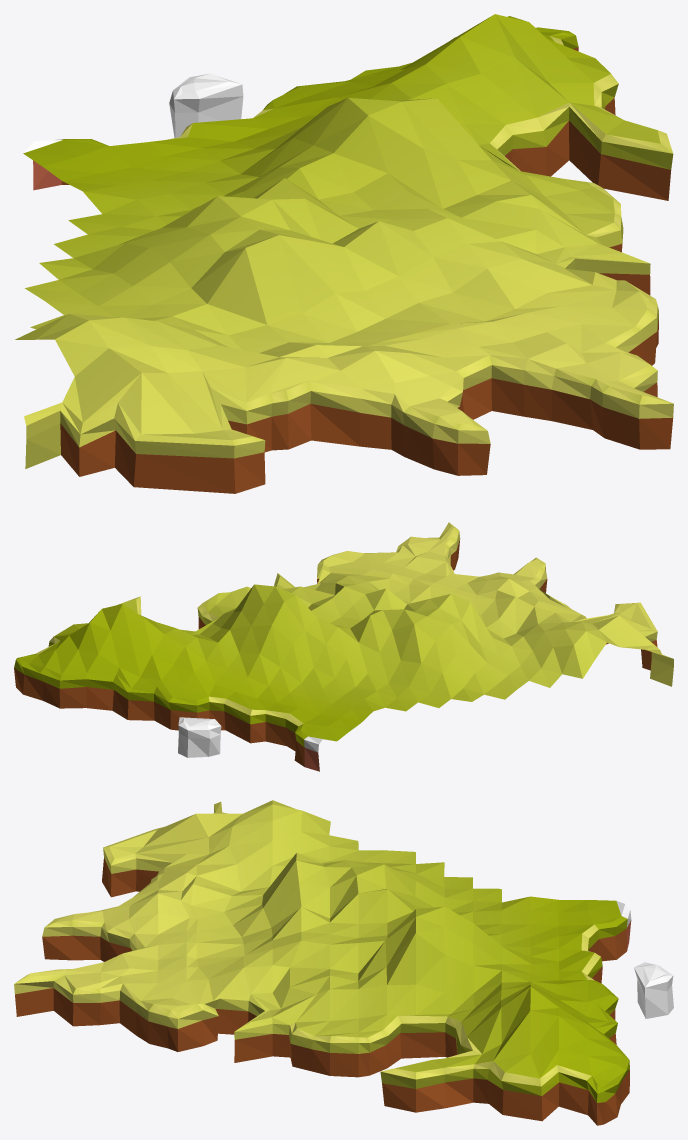
The model's file is asia.glb.
3 views of the same model, one above another, from view 1: azimuth 30°, elevation 25°; view 2: azimuth 150°, elevation 25°; view 3: azimuth 270°, elevation 25° (orthographic). The views are drawn at different scales.
Visible parts, largest first — view 1: Ground_2_World ap_0; view 2: Ground_2_World ap_0; view 3: Ground_2_World ap_0.
Part boxes in pixels (x1,y1,x2,y2): Ground_2_World ap_0: (15, 14, 673, 493); Ground_2_World ap_0: (14, 522, 673, 771); Ground_2_World ap_0: (14, 800, 673, 1125).
Size of the model in its own units: 6.62 by 1.11 by 6.42.
1 material, 1 textured.
